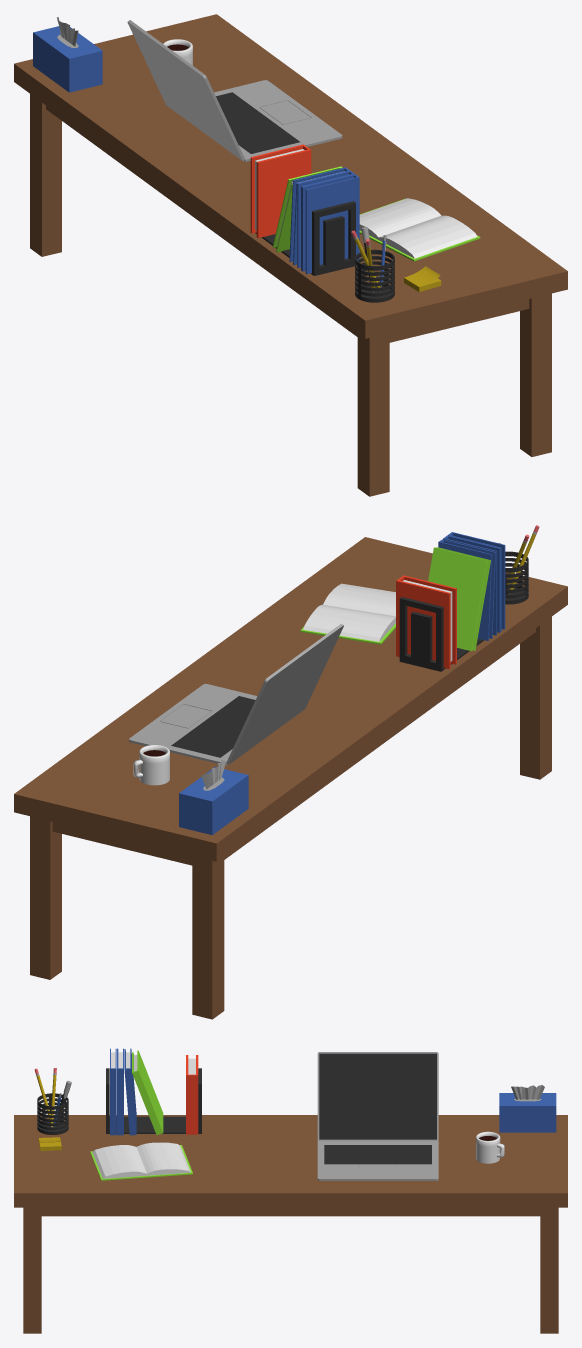
Rendered from Desk.fbx.
3 renders of one model, top to bottom at view 1: azimuth 30°, elevation 25°; view 2: azimuth 150°, elevation 25°; view 3: azimuth 270°, elevation 25°, orthographic. The views are drawn at different scales.
Visible parts, largest first — view 1: Desk; view 2: Desk; view 3: Desk.
Part boxes in pixels (box(x1,y1,x2,y2)): Desk: box(14, 14, 567, 496); Desk: box(14, 525, 567, 1019); Desk: box(14, 1048, 567, 1333).
Size of the model in its own units: 600 by 200 by 263.
